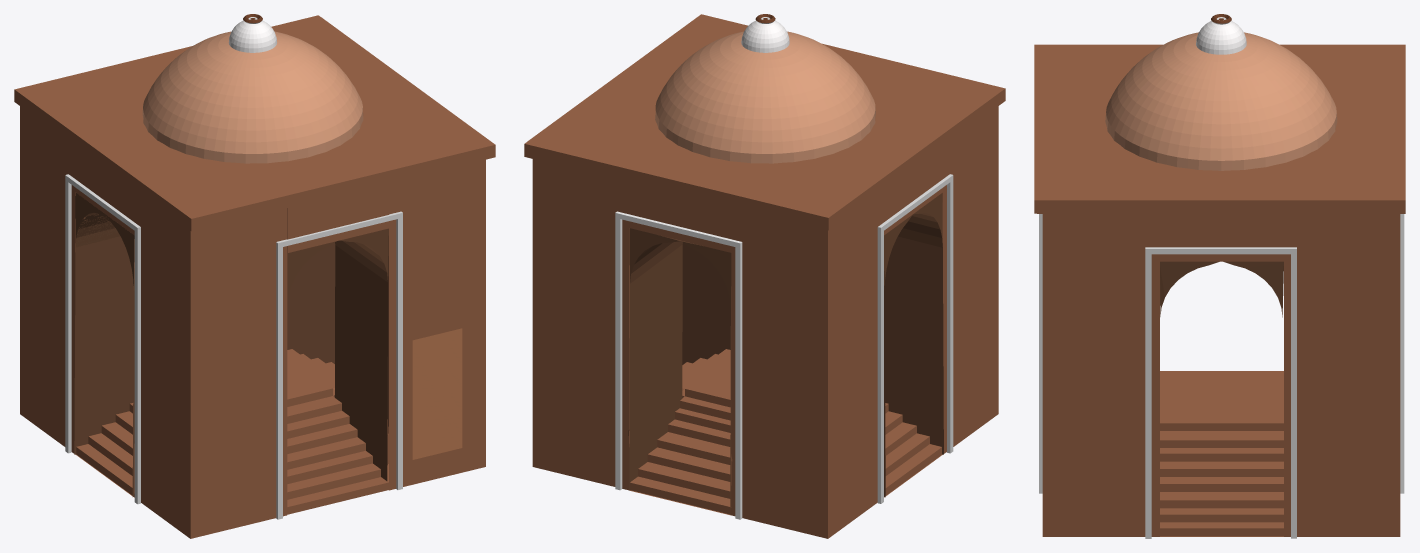
Rendered from alai darwaza.fbx.
3 renders of one model, left to right at view 1: azimuth 30°, elevation 25°; view 2: azimuth 150°, elevation 25°; view 3: azimuth 270°, elevation 25°, orthographic. The views are drawn at different scales.
Visible parts, largest first — view 1: Base, Sphere, Arch.001, Arch.003, Base.001, Cube.003, Arch.004, Cube, Sphere.001; view 2: Base, Sphere, Arch.001, Arch.002, Cube.002, Arch.004, Cube, Sphere.001; view 3: Base, Sphere, Cube.001, Arch.004, Cube.002, Sphere.001, Cube.003.
Boxes of the visible parts, box(x1,y1,x2,y2) form: Base: box(14, 15, 495, 538); Sphere: box(142, 31, 363, 163); Arch.001: box(74, 193, 134, 496); Arch.003: box(287, 228, 388, 480); Base.001: box(412, 328, 462, 459); Cube.003: box(276, 211, 402, 519); Arch.004: box(287, 242, 335, 363); Cube: box(65, 174, 140, 504); Sphere.001: box(228, 20, 277, 52); Base: box(524, 14, 1005, 538); Sphere: box(655, 31, 875, 163); Arch.001: box(884, 193, 943, 497); Arch.002: box(629, 228, 731, 515); Cube.002: box(615, 211, 742, 519); Arch.004: box(682, 243, 730, 364); Cube: box(877, 174, 953, 503); Sphere.001: box(741, 20, 789, 52); Base: box(1034, 44, 1405, 536); Sphere: box(1105, 32, 1337, 170); Cube.001: box(1145, 247, 1296, 538); Arch.004: box(1160, 261, 1283, 317); Cube.002: box(1400, 214, 1404, 493); Sphere.001: box(1196, 21, 1246, 54); Cube.003: box(1039, 214, 1042, 493).
Size of the model in its own units: 1776 by 2358 by 1784.
